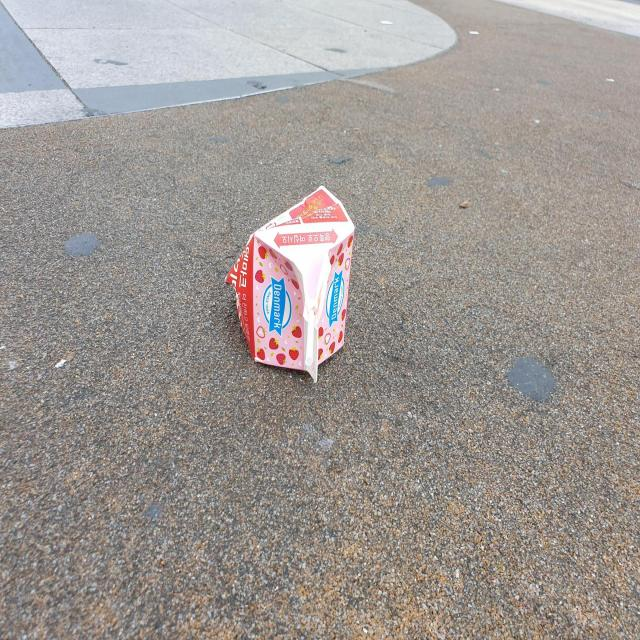paperpack: (225, 186, 355, 382)
